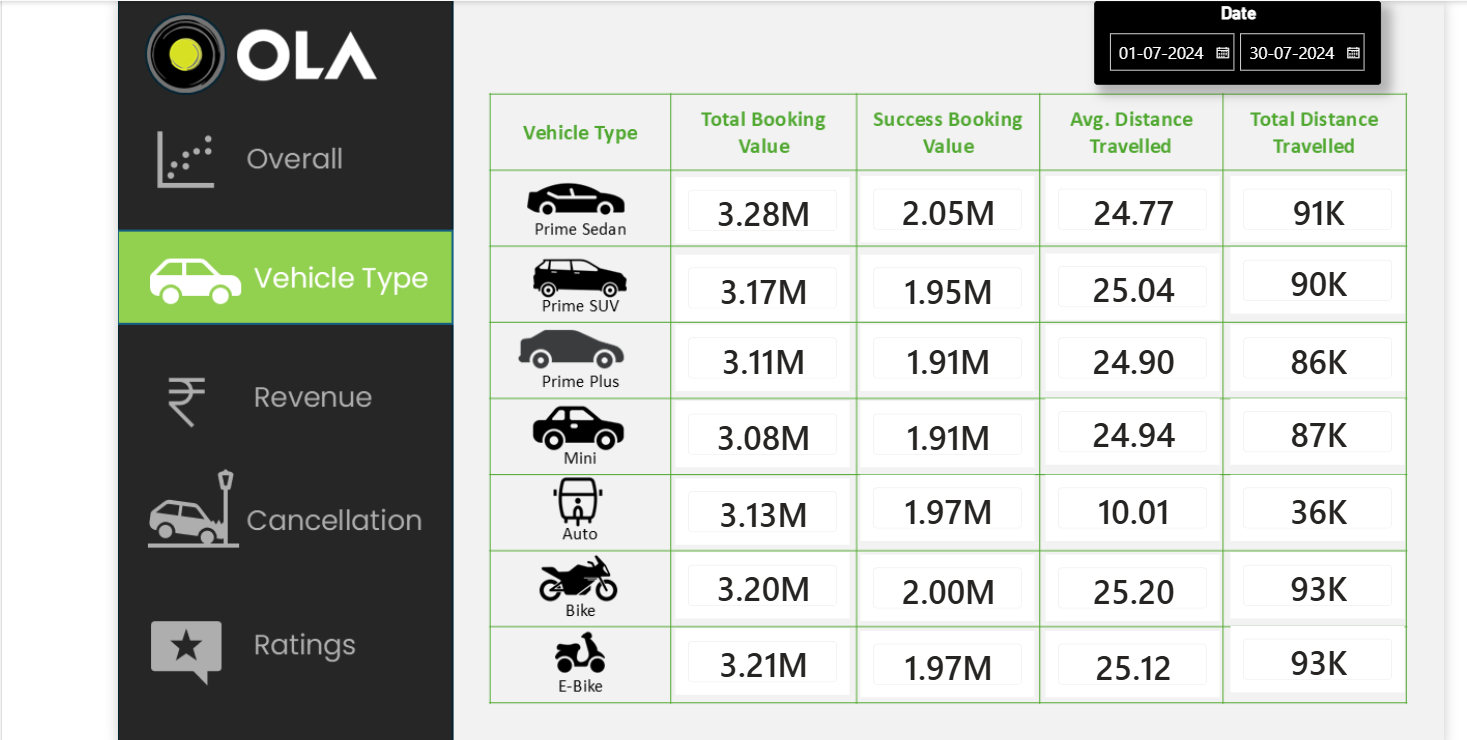

What the dashboard file says about the page in this screenshot:
{"tool":"powerbi","page":{"name":"Vehicle Type","canvas":[1280,720],"ordinal":1},"visuals":[{"type":"actionButton","box":[0,345,326.9,96.5],"z":0},{"type":"actionButton","box":[1.2,345,326.9,96.5],"z":1},{"type":"actionButton","box":[0,468.1,326.9,96.5],"z":2},{"type":"actionButton","box":[0,576.7,326.9,96.5],"z":3},{"type":"actionButton","box":[0,108.6,326.9,96.5],"z":4},{"type":"cardVisual","fields":{"Data":["Sum(Booking.Booking_Value)"]},"box":[533.2,165.3,178.6,74.8],"z":5},{"type":"cardVisual","fields":{"Data":["Sum(Booking.Booking_Value)"]},"box":[533.8,240.1,178.4,74.1],"z":6},{"type":"cardVisual","fields":{"Data":["Sum(Booking.Booking_Value)"]},"box":[533.8,307.4,178.4,74.1],"z":7},{"type":"cardVisual","fields":{"Data":["Sum(Booking.Booking_Value)"]},"box":[533.8,381.5,178.4,74.1],"z":8},{"type":"cardVisual","fields":{"Data":["Sum(Booking.Booking_Value)"]},"box":[533.8,455.6,178.4,74.1],"z":9},{"type":"cardVisual","fields":{"Data":["Sum(Booking.Booking_Value)"]},"box":[533.8,526.9,178.4,74.1],"z":10},{"type":"cardVisual","fields":{"Data":["Sum(Booking.Booking_Value)"]},"box":[533.8,601,178.4,74.1],"z":11},{"type":"cardVisual","fields":{"Data":["Sum(Booking.Booking_Value)"]},"box":[712.2,164.7,178.4,74.1],"z":12},{"type":"cardVisual","fields":{"Data":["Sum(Booking.Booking_Value)"]},"box":[712.2,240.1,178.4,74.1],"z":13},{"type":"cardVisual","fields":{"Data":["Sum(Booking.Booking_Value)"]},"box":[712.2,307.4,178.4,74.1],"z":14},{"type":"cardVisual","fields":{"Data":["Sum(Booking.Booking_Value)"]},"box":[712.2,381.5,178.4,74.1],"z":15},{"type":"cardVisual","fields":{"Data":["Sum(Booking.Booking_Value)"]},"box":[712.2,452.8,178.4,74.1],"z":16},{"type":"cardVisual","fields":{"Data":["Sum(Booking.Booking_Value)"]},"box":[712.2,529.7,178.4,74.1],"z":17},{"type":"cardVisual","fields":{"Data":["Sum(Booking.Booking_Value)"]},"box":[712.2,603.8,178.4,74.1],"z":18},{"type":"cardVisual","fields":{"Data":["Avg(Booking.Ride_Distance)"]},"box":[890.6,164.7,178.4,74.1],"z":19},{"type":"cardVisual","fields":{"Data":["Avg(Booking.Ride_Distance)"]},"box":[890.6,238.8,178.4,74.1],"z":20},{"type":"cardVisual","fields":{"Data":["Avg(Booking.Ride_Distance)"]},"box":[890.6,307.4,178.4,74.1],"z":21},{"type":"cardVisual","fields":{"Data":["Avg(Booking.Ride_Distance)"]},"box":[890.6,378.7,178.4,74.1],"z":22},{"type":"cardVisual","fields":{"Data":["Avg(Booking.Ride_Distance)"]},"box":[890.6,452.8,178.4,74.1],"z":23},{"type":"cardVisual","fields":{"Data":["Avg(Booking.Ride_Distance)"]},"box":[890.6,529.7,178.4,74.1],"z":24},{"type":"cardVisual","fields":{"Data":["Avg(Booking.Ride_Distance)"]},"box":[890.6,603.8,178.4,74.1],"z":25},{"type":"cardVisual","fields":{"Data":["Sum(Booking.Ride_Distance)"]},"box":[1069,164.7,178.4,74.1],"z":26},{"type":"cardVisual","fields":{"Data":["Sum(Booking.Ride_Distance)"]},"box":[1069,233.3,178.4,74.1],"z":27},{"type":"cardVisual","fields":{"Data":["Sum(Booking.Ride_Distance)"]},"box":[1069,307.4,178.4,74.1],"z":28},{"type":"cardVisual","fields":{"Data":["Sum(Booking.Ride_Distance)"]},"box":[1069,378.7,178.4,74.1],"z":29},{"type":"cardVisual","fields":{"Data":["Sum(Booking.Ride_Distance)"]},"box":[1069,452.8,178.4,74.1],"z":30},{"type":"cardVisual","fields":{"Data":["Sum(Booking.Ride_Distance)"]},"box":[1069,526.9,178.4,74.1],"z":31},{"type":"cardVisual","fields":{"Data":["Sum(Booking.Ride_Distance)"]},"box":[1069,598.3,178.4,74.1],"z":32},{"type":"slicer","title":"Date","fields":{"Values":["Booking.Date"]},"box":[942.7,0,277.2,81],"z":33}]}

Visuals, with their boxes on the page's 1280x720 design canvas (x1, y1, x2, y2). These are canvas units, not pixel positions in the 1467x740 screenshot, which may show the page scaled, cropped or inside an application window:
actionButton: bbox=[0, 345, 327, 442]
actionButton: bbox=[1, 345, 328, 442]
actionButton: bbox=[0, 468, 327, 565]
actionButton: bbox=[0, 577, 327, 673]
actionButton: bbox=[0, 109, 327, 205]
cardVisual - Sum(Booking.Booking_Value): bbox=[533, 165, 712, 240]
cardVisual - Sum(Booking.Booking_Value): bbox=[534, 240, 712, 314]
cardVisual - Sum(Booking.Booking_Value): bbox=[534, 307, 712, 382]
cardVisual - Sum(Booking.Booking_Value): bbox=[534, 382, 712, 456]
cardVisual - Sum(Booking.Booking_Value): bbox=[534, 456, 712, 530]
cardVisual - Sum(Booking.Booking_Value): bbox=[534, 527, 712, 601]
cardVisual - Sum(Booking.Booking_Value): bbox=[534, 601, 712, 675]
cardVisual - Sum(Booking.Booking_Value): bbox=[712, 165, 891, 239]
cardVisual - Sum(Booking.Booking_Value): bbox=[712, 240, 891, 314]
cardVisual - Sum(Booking.Booking_Value): bbox=[712, 307, 891, 382]
cardVisual - Sum(Booking.Booking_Value): bbox=[712, 382, 891, 456]
cardVisual - Sum(Booking.Booking_Value): bbox=[712, 453, 891, 527]
cardVisual - Sum(Booking.Booking_Value): bbox=[712, 530, 891, 604]
cardVisual - Sum(Booking.Booking_Value): bbox=[712, 604, 891, 678]
cardVisual - Avg(Booking.Ride_Distance): bbox=[891, 165, 1069, 239]
cardVisual - Avg(Booking.Ride_Distance): bbox=[891, 239, 1069, 313]
cardVisual - Avg(Booking.Ride_Distance): bbox=[891, 307, 1069, 382]
cardVisual - Avg(Booking.Ride_Distance): bbox=[891, 379, 1069, 453]
cardVisual - Avg(Booking.Ride_Distance): bbox=[891, 453, 1069, 527]
cardVisual - Avg(Booking.Ride_Distance): bbox=[891, 530, 1069, 604]
cardVisual - Avg(Booking.Ride_Distance): bbox=[891, 604, 1069, 678]
cardVisual - Sum(Booking.Ride_Distance): bbox=[1069, 165, 1247, 239]
cardVisual - Sum(Booking.Ride_Distance): bbox=[1069, 233, 1247, 307]
cardVisual - Sum(Booking.Ride_Distance): bbox=[1069, 307, 1247, 382]
cardVisual - Sum(Booking.Ride_Distance): bbox=[1069, 379, 1247, 453]
cardVisual - Sum(Booking.Ride_Distance): bbox=[1069, 453, 1247, 527]
cardVisual - Sum(Booking.Ride_Distance): bbox=[1069, 527, 1247, 601]
cardVisual - Sum(Booking.Ride_Distance): bbox=[1069, 598, 1247, 672]
"Date" slicer: bbox=[943, 0, 1220, 81]
